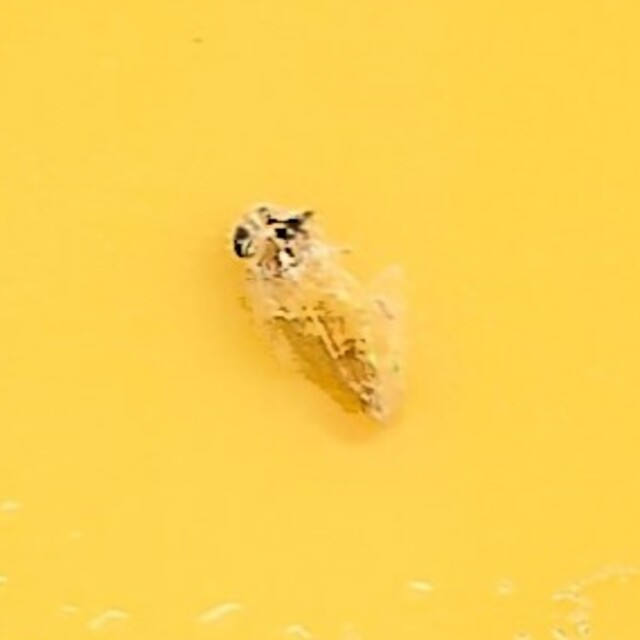Hemiptera: (225, 190, 415, 450)
